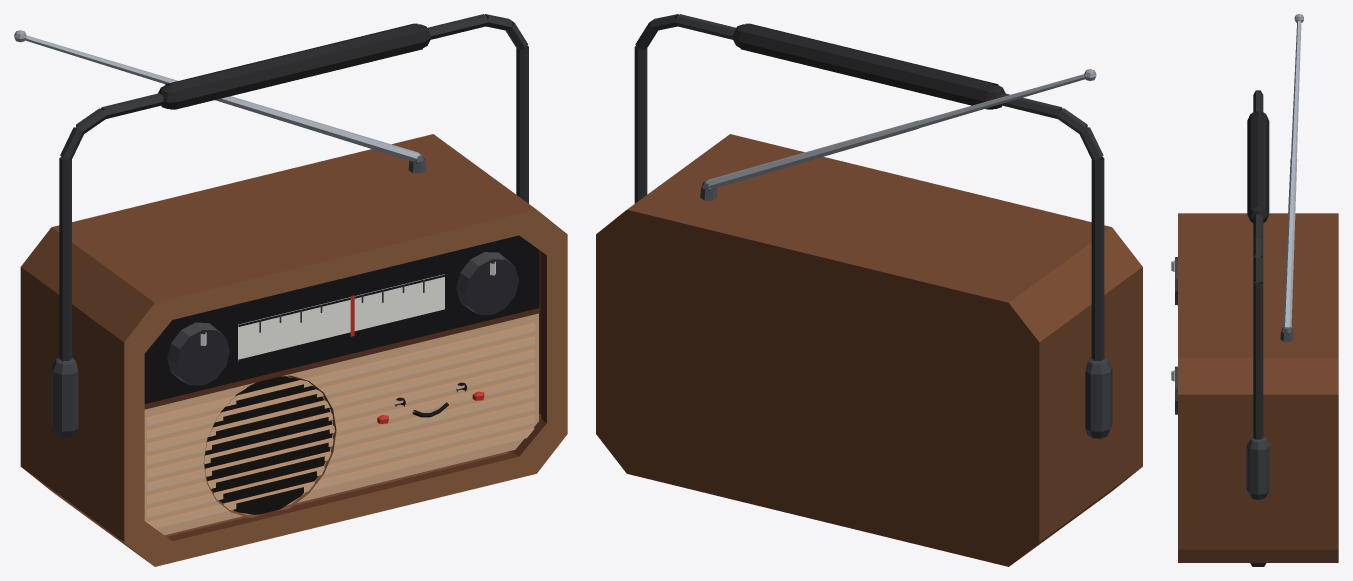
The model's file is retro_radio.glb.
3 views of the same model, side by side, from view 1: azimuth 30°, elevation 25°; view 2: azimuth 150°, elevation 25°; view 3: azimuth 270°, elevation 25° (orthographic). The views are drawn at different scales.
Visible parts, largest first — view 1: retro_radio; view 2: retro_radio; view 3: retro_radio.
Part boxes in pixels (x1,y1,x2,y2): retro_radio: (14, 14, 567, 566); retro_radio: (596, 14, 1142, 566); retro_radio: (1171, 14, 1338, 566).
Size of the model in its own units: 2.9 by 2.86 by 1.09.
